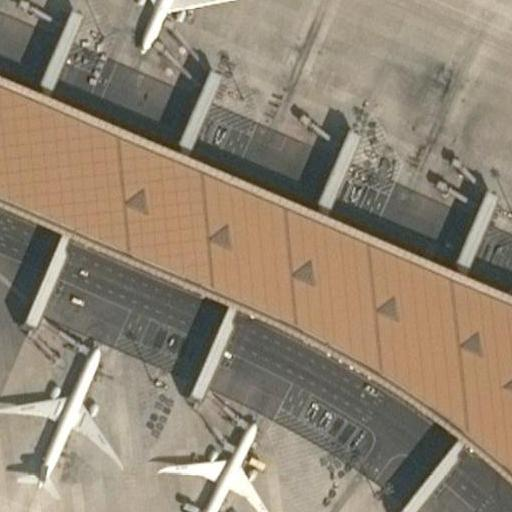Aircraft: (0, 326, 121, 493), (158, 403, 283, 512), (106, 0, 241, 46)
